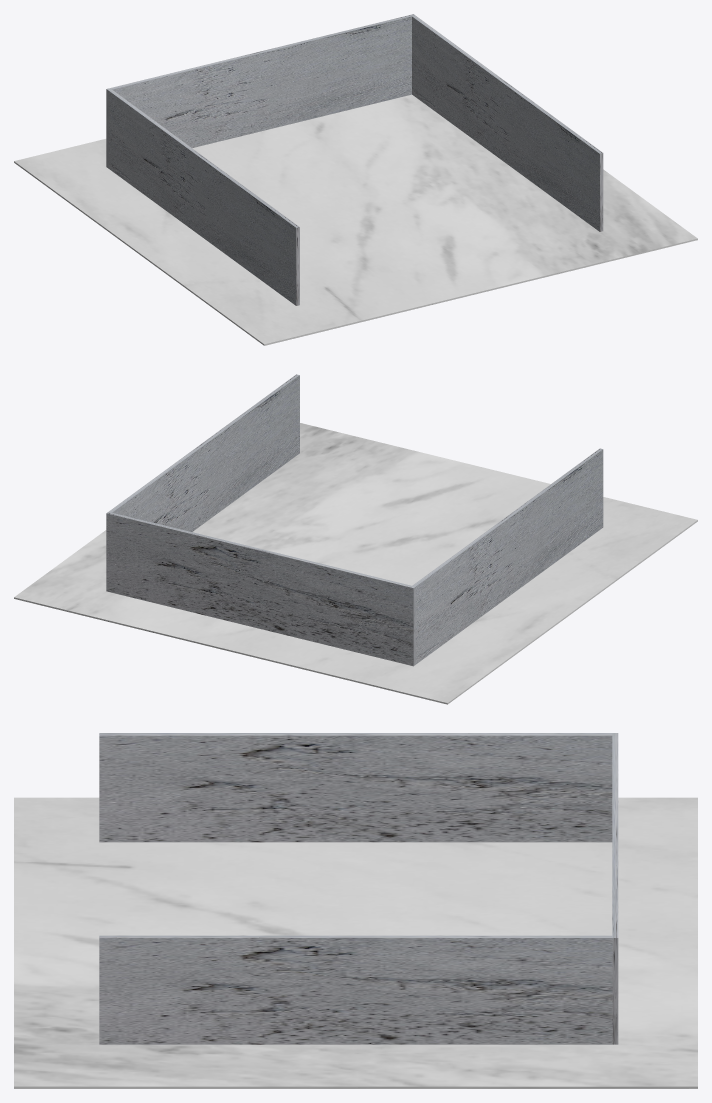
File: wallsAndFloor2_Nov17.glb
The picture shows the model from 3 angles, top to bottom: view 1: azimuth 30°, elevation 25°; view 2: azimuth 150°, elevation 25°; view 3: azimuth 270°, elevation 25°; orthographic projection. The views are drawn at different scales.
Parts seen in each view (by area): view 1: Floor, FrontWall, LeftWall, RightWall; view 2: Floor, FrontWall, LeftWall, RightWall; view 3: Floor, RightWall, LeftWall, FrontWall.
Part boxes in pixels (<box>): Floor: <box>14,94,697,345</box>; FrontWall: <box>106,14,415,168</box>; LeftWall: <box>108,89,299,305</box>; RightWall: <box>412,15,603,231</box>; Floor: <box>14,423,697,704</box>; FrontWall: <box>106,512,415,666</box>; LeftWall: <box>412,448,603,664</box>; RightWall: <box>109,374,299,531</box>; Floor: <box>14,797,697,1088</box>; RightWall: <box>99,935,612,1044</box>; LeftWall: <box>99,733,612,842</box>; FrontWall: <box>612,733,618,1044</box>.
Size of the model in its own units: 60 by 10.53 by 60.
Materials: 4 (4 with a texture image).
